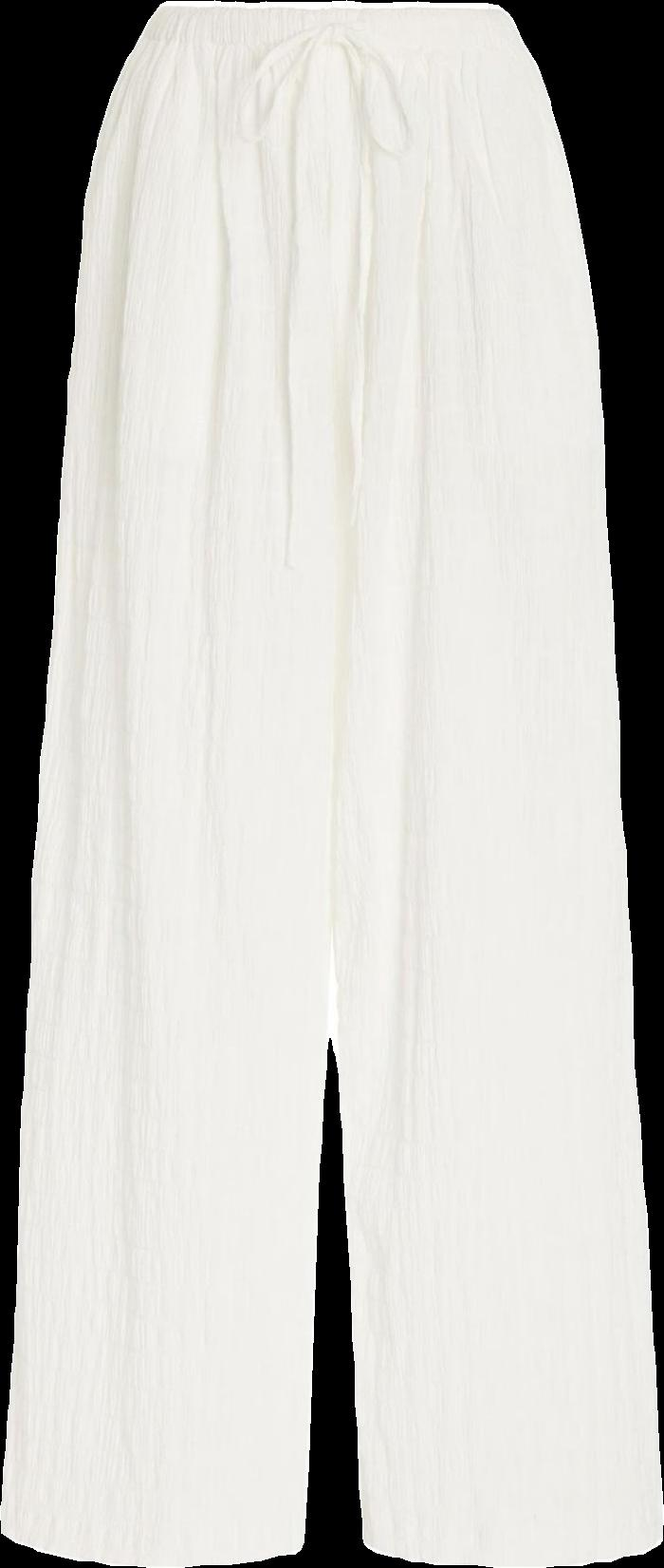Hemline: (0, 1522, 304, 1567), (364, 1533, 663, 1567)
Pantleg: (0, 0, 341, 1567), (325, 0, 663, 1567)
Waistline: (126, 37, 528, 70), (145, 0, 499, 20)
